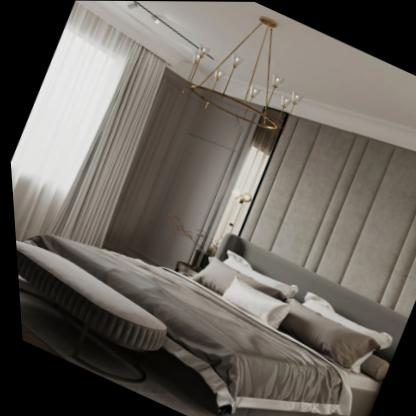Bed: (23, 234, 404, 416)
Curtains: (8, 1, 165, 249)
Wall Panel: (133, 84, 416, 316)
